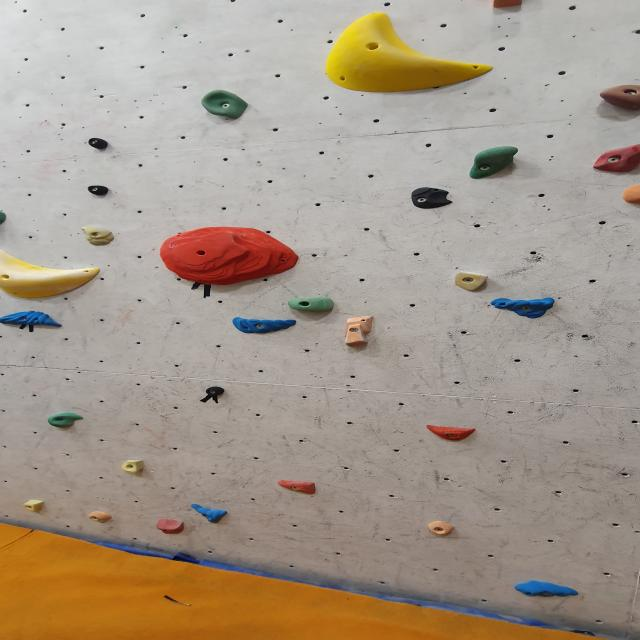Crimp: (157, 226, 304, 284), (489, 299, 559, 319), (230, 316, 301, 334), (0, 311, 66, 328), (512, 582, 581, 598), (424, 425, 481, 441), (189, 505, 231, 524), (454, 273, 492, 293), (80, 226, 116, 247), (275, 480, 321, 496), (424, 523, 456, 539), (120, 462, 150, 478), (20, 499, 44, 514), (88, 512, 114, 524)
Jug: (467, 148, 523, 182), (200, 90, 253, 121), (590, 146, 640, 175), (597, 84, 640, 112), (286, 298, 336, 314), (47, 412, 87, 430)
Pinch: (336, 310, 380, 357), (84, 136, 114, 150), (85, 184, 115, 197), (203, 384, 229, 398)
Sloper: (319, 12, 494, 97), (0, 242, 102, 302), (408, 186, 459, 209), (156, 518, 188, 536), (620, 182, 640, 206)
